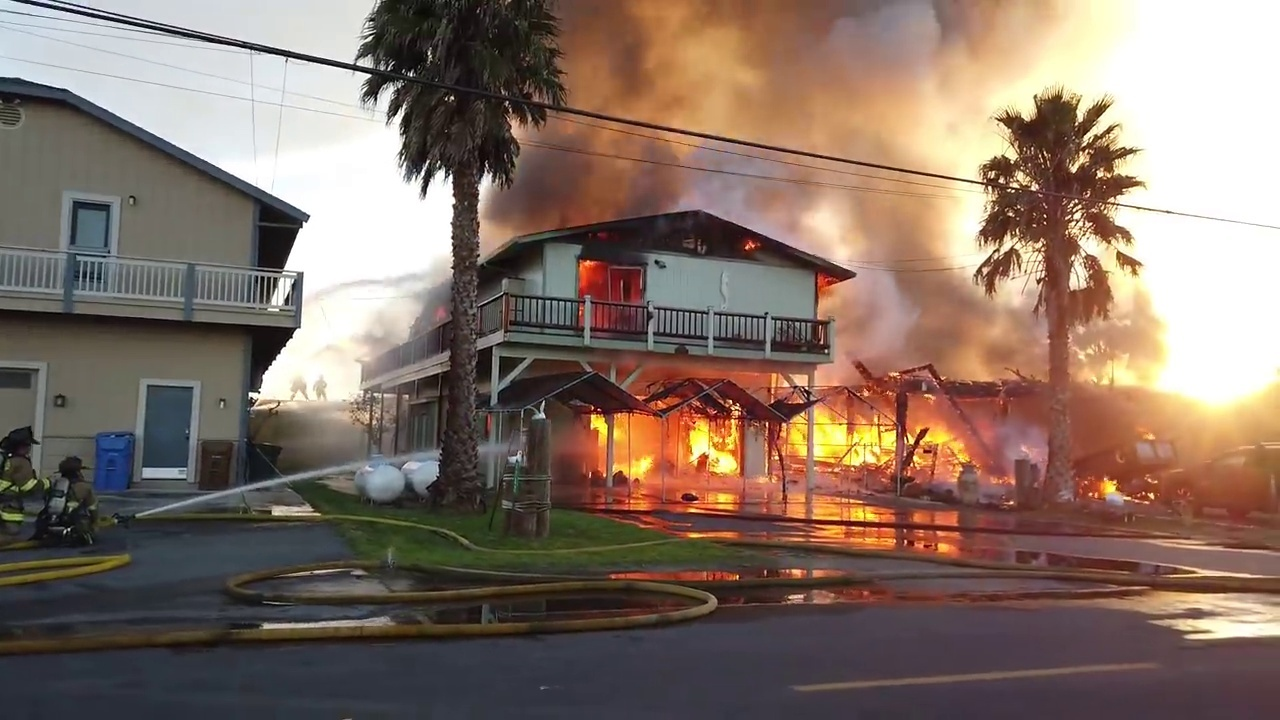fire: (595, 415, 741, 501), (786, 407, 967, 466), (1078, 475, 1158, 500), (741, 227, 761, 253)
smoke: (806, 10, 1031, 366), (978, 93, 1173, 392), (558, 14, 807, 209)
